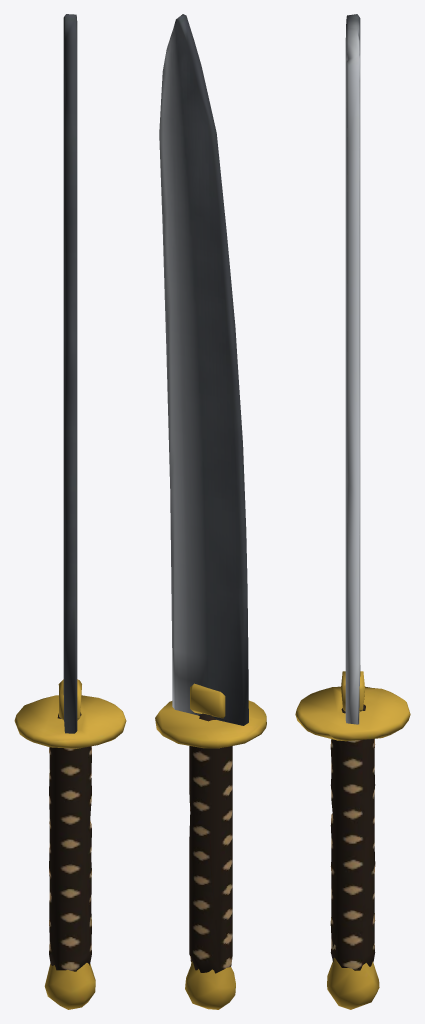
Rendered from katana.glb.
3 views of the same model, side by side, from view 1: azimuth 90°, elevation 25°; view 2: azimuth 150°, elevation 25°; view 3: azimuth 270°, elevation 25° (orthographic). The views are drawn at different scales.
Parts seen in each view (by area): view 1: blade; view 2: blade; view 3: blade.
Boxes of the visible parts, bbox=[...] form: blade: bbox=[14, 14, 126, 1009]; blade: bbox=[155, 14, 266, 1009]; blade: bbox=[295, 14, 410, 1009].
Bounding box in the file's own units: 0.1046 × 1 × 0.104.
1 material, 1 textured.
